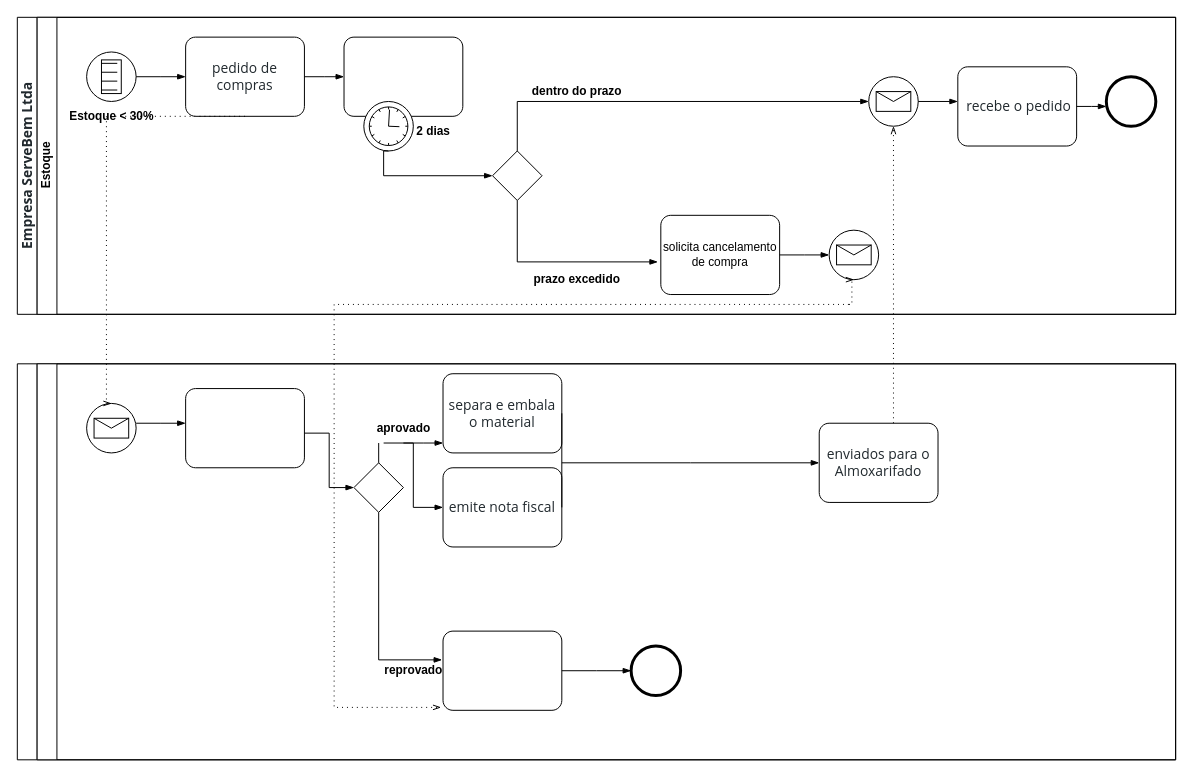
Image size: 1193x777. Some labels were removed from this diagram. The box of each missing label's shape, as (x1, y1, x2, y2) in pixels:
aguarda resposta de aprovação do fornecedor: (343, 36, 463, 116)
analisa pedido de compras: (185, 388, 304, 468)
cancelar a compra: (442, 630, 562, 710)
Fornecedor: (16, 363, 1176, 760)
